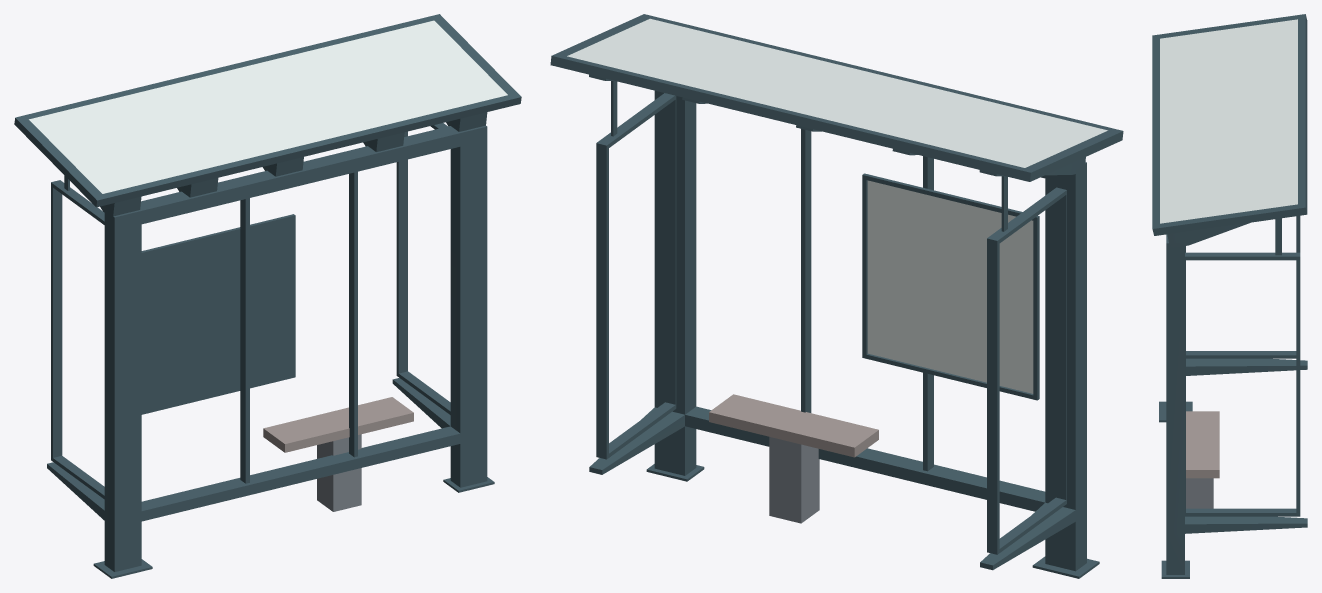
File: P_abris_bus.fbx
3 views of the same model, side by side, from view 1: azimuth 30°, elevation 25°; view 2: azimuth 150°, elevation 25°; view 3: azimuth 270°, elevation 25° (orthographic). The views are drawn at different scales.
Visible parts, largest first — view 1: Box003; view 2: Box003; view 3: Box003.
Part boxes in pixels (<box>): Box003: <box>14,14,521,578</box>; Box003: <box>550,14,1123,578</box>; Box003: <box>1152,14,1307,578</box>.
Bounding box in the file's own units: 118 × 109 × 40.11.
